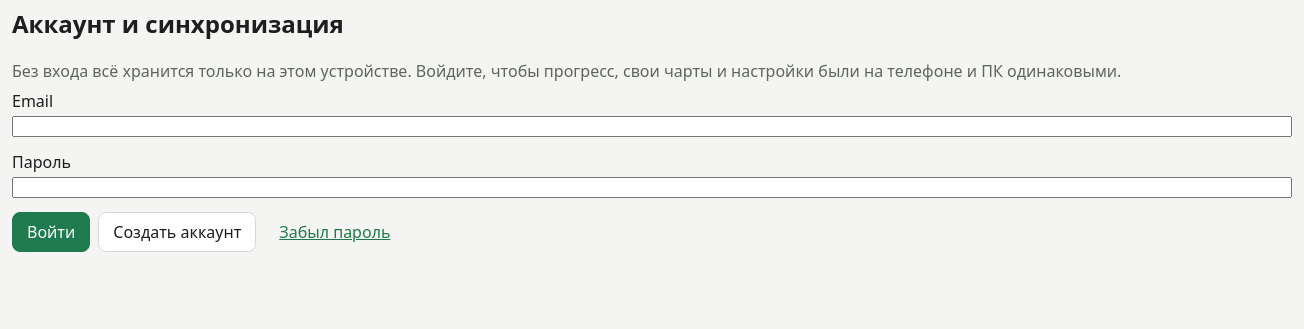
Test: AccountSection › explains a wrong password and sends a reset email
The width and height of the screenshot is (1304, 329).
Type "me@example.com" into the field labelled "Email" at coordinates (652, 126), box [12,116,1292,137]
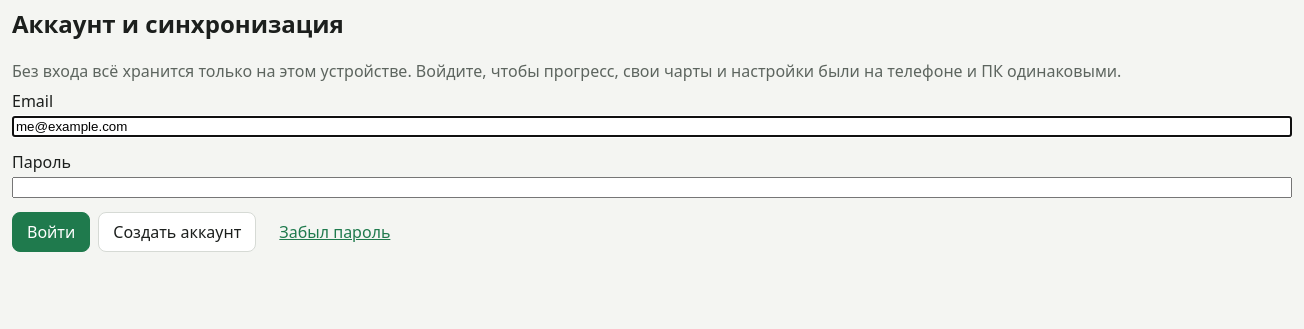
Type "wrong12" into the password field labelled "Пароль" at coordinates (652, 187), box [12,177,1292,198]
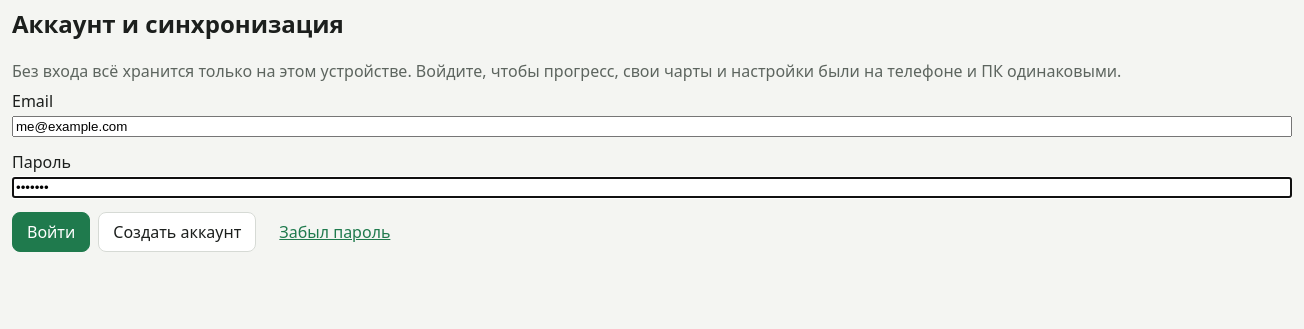
Click the button "Войти" at coordinates (51, 232), box [12,212,90,252]
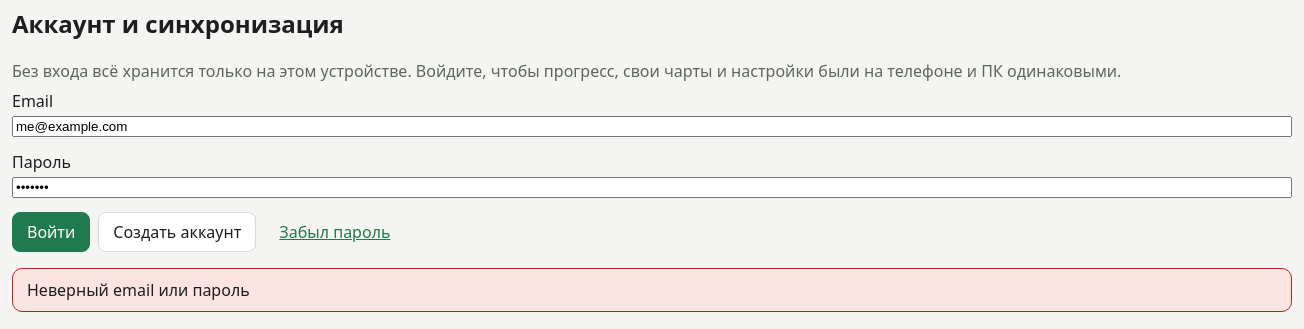
expect the message reads "Неверный email или пароль": met, box [27,279,250,301]
Click the button "Забыл пароль" at coordinates (335, 232), box [264,212,405,252]
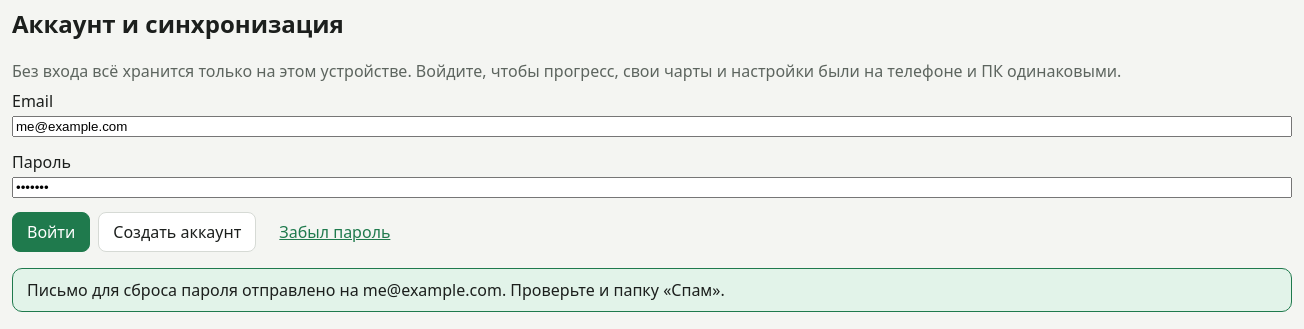
expect the message shows "Письмо для сброса пароля отправлено на me@example.com": met, box [27,279,725,301]
